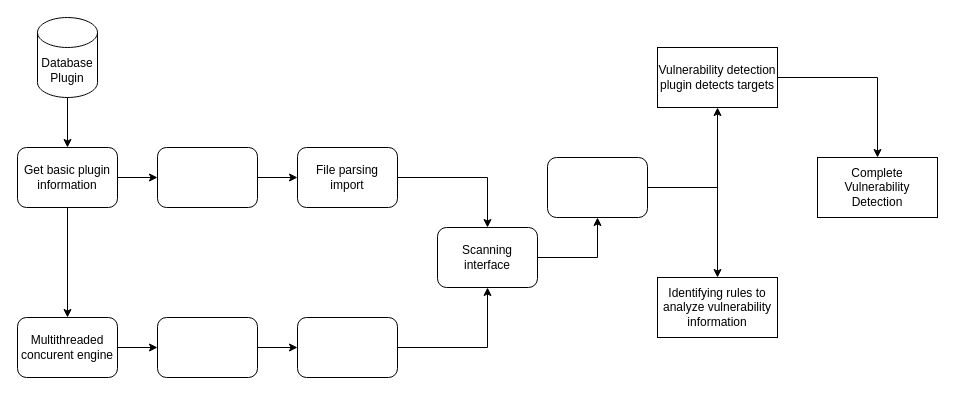
Image size: 955x395. Some labels were removed from this diagram. The centre of each missing label's shape, as x and y in pixels:
"Complete target loading" belongs at point (597, 187).
"Ip segment parsing" belongs at point (347, 347).
"Load plugin service" belongs at point (207, 177).
"Loaded plugin poc" belongs at point (207, 347).
